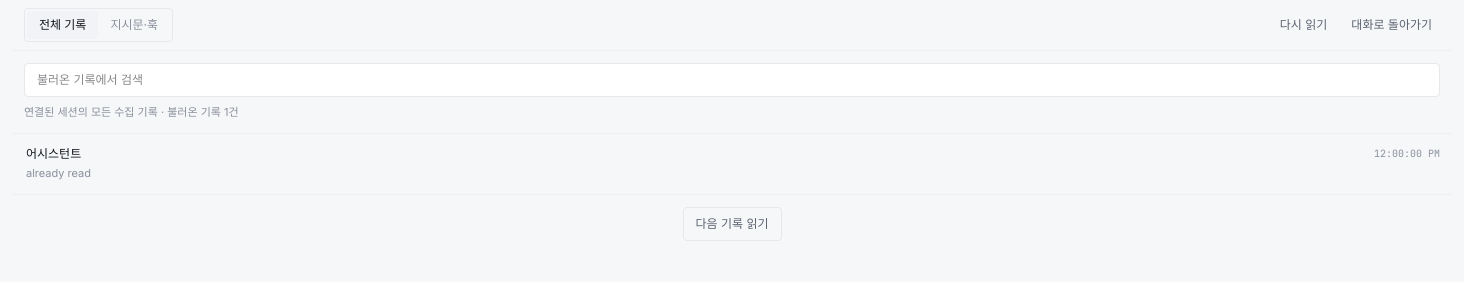
Test: keeps already read records after a next-page failure and retries the failed boundary
The image size is (1464, 282).
Check: the text "already read" is shown, box [26, 166, 91, 180]
Click the button "다음 기록 읽기".
click(732, 224)  # box [682, 207, 782, 241]
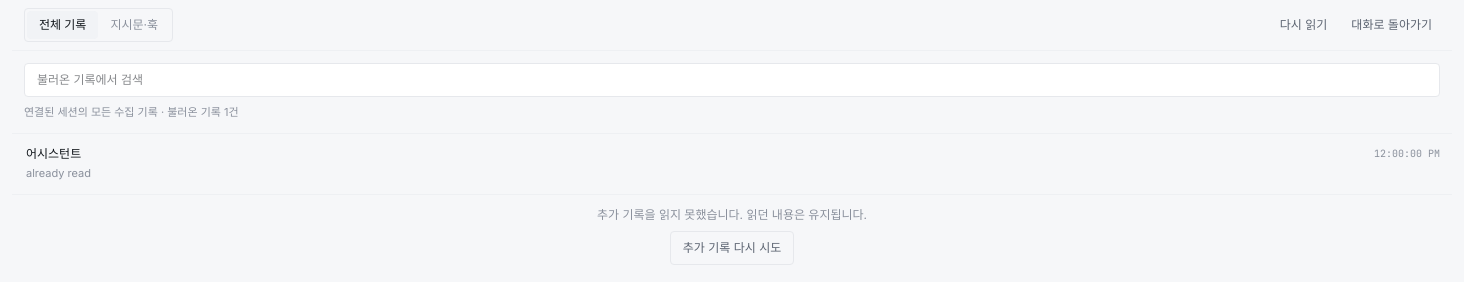
Check: the text "already read" is shown, box [26, 166, 91, 180]
Click the button "추가 기록 다시 시도".
click(732, 248)  # box [670, 231, 794, 265]
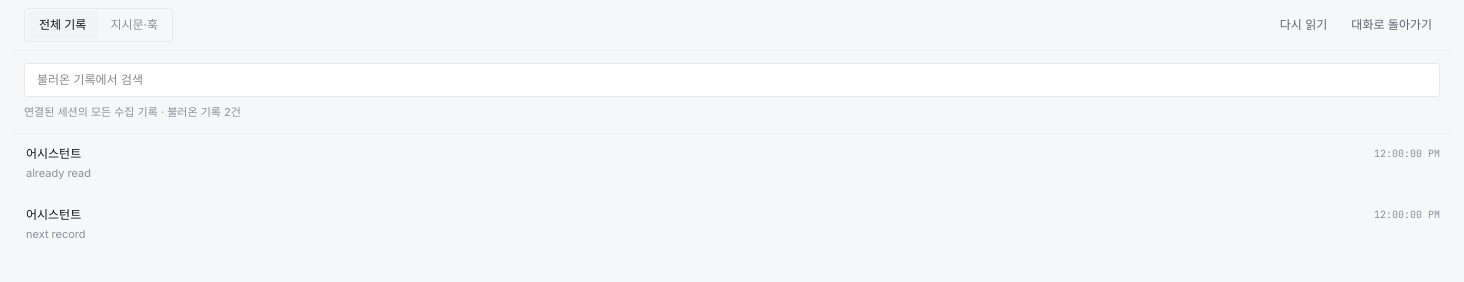
Check: the text "already read" is shown, box [26, 166, 91, 180]
Check: the text "next record" is shown, box [26, 227, 86, 241]
